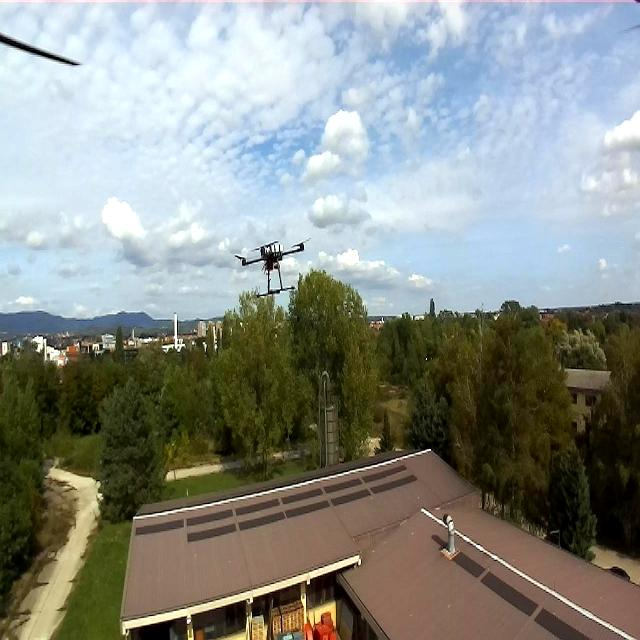drone: (236, 236, 307, 298)
